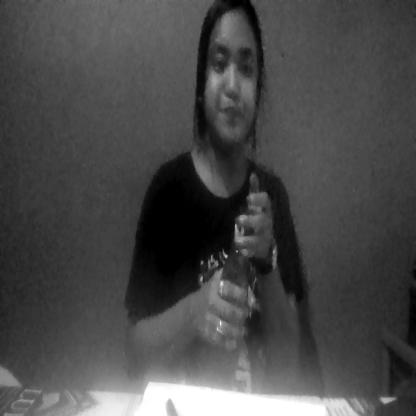Normal: (205, 19, 257, 154)
